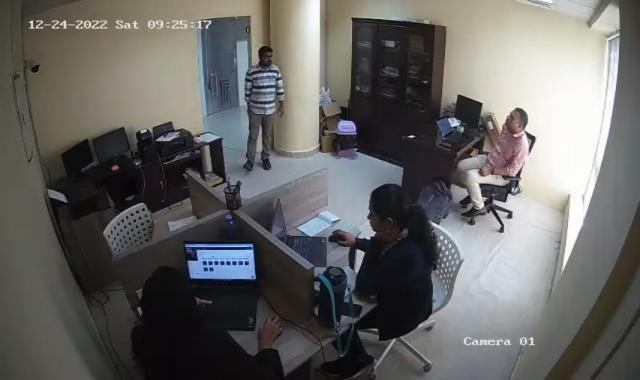no_hairnet: (368, 185, 413, 236), (504, 104, 530, 138), (258, 45, 274, 67)
